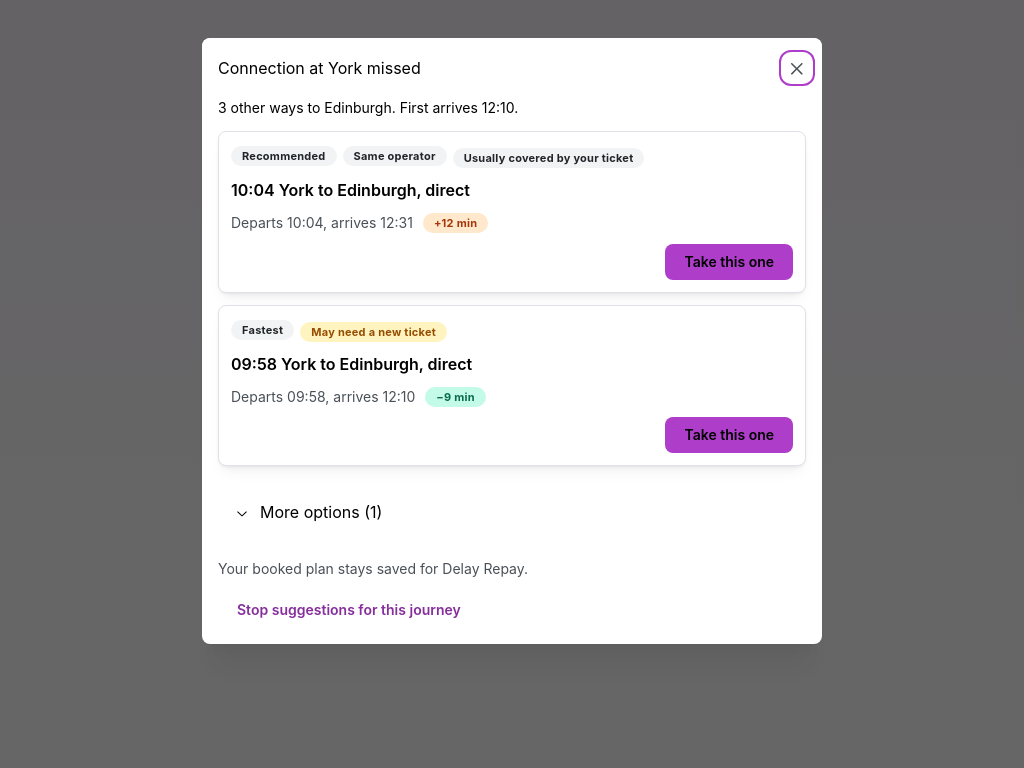
Test: AlternativesSheet › explains a ticket fit on tap
Step 1. Click the button with aria-label "May need a new ticket: why" → (374, 330), box [300,318,447,342]
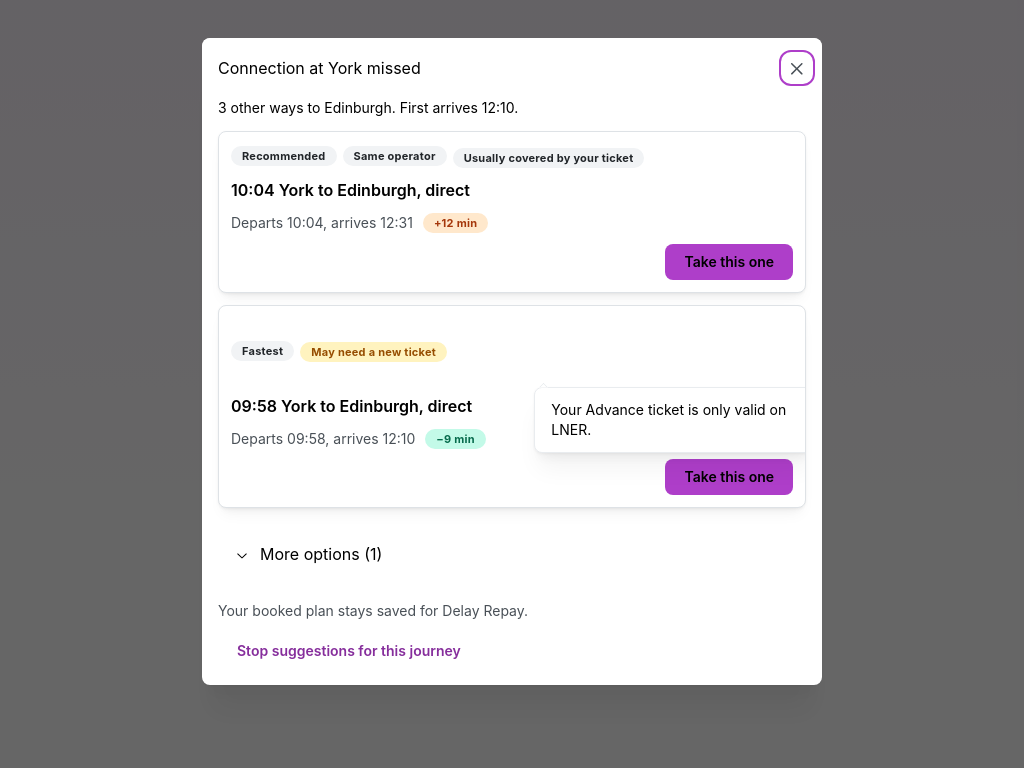
Expected: the text "Your Advance ticket is only valid on LNER." is shown, [551,400,797,440]
